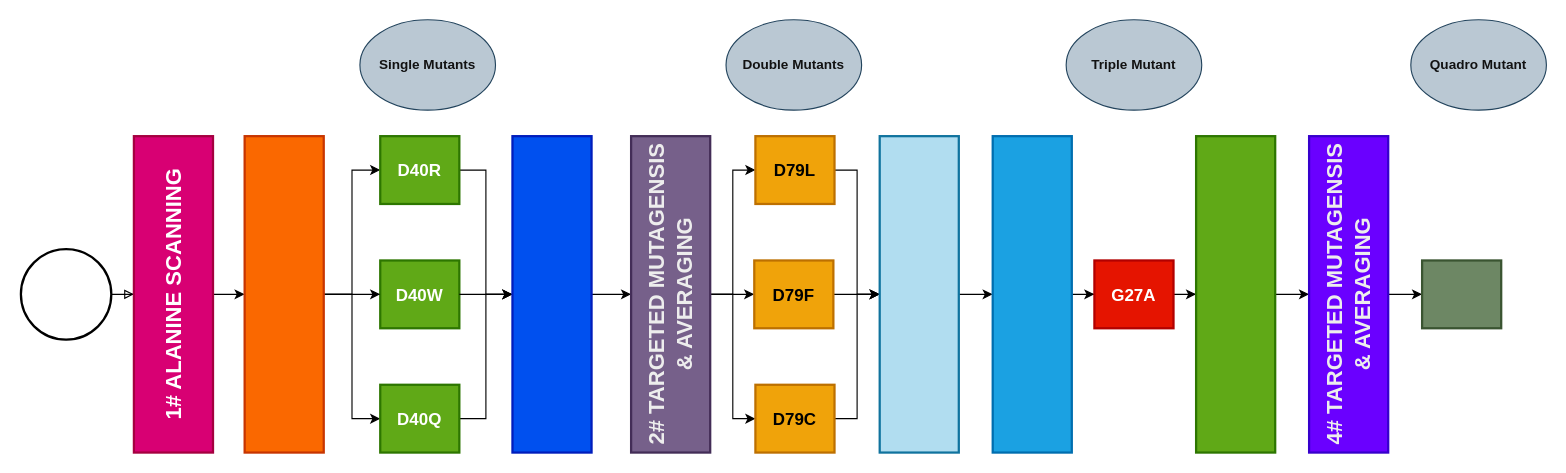
The diagram is 1566 pixels wide and 473 high, and some of its shapes have lost their labels. Each missing label, with the box of its shape:
1# TARGETED MUTAGENSIS & AVERAGING: (243, 134, 324, 453)
2# ALANINE SCANNING: (511, 134, 592, 453)
3# ALANINE SCANNING: (878, 134, 959, 453)
3# TARGETED MUTAGENSIS & AVERAGING: (991, 134, 1072, 453)
4# ALANINE SCANNING: (1194, 134, 1276, 453)
G126A: (1420, 259, 1502, 329)
Native Enzyme: (19, 247, 112, 340)
